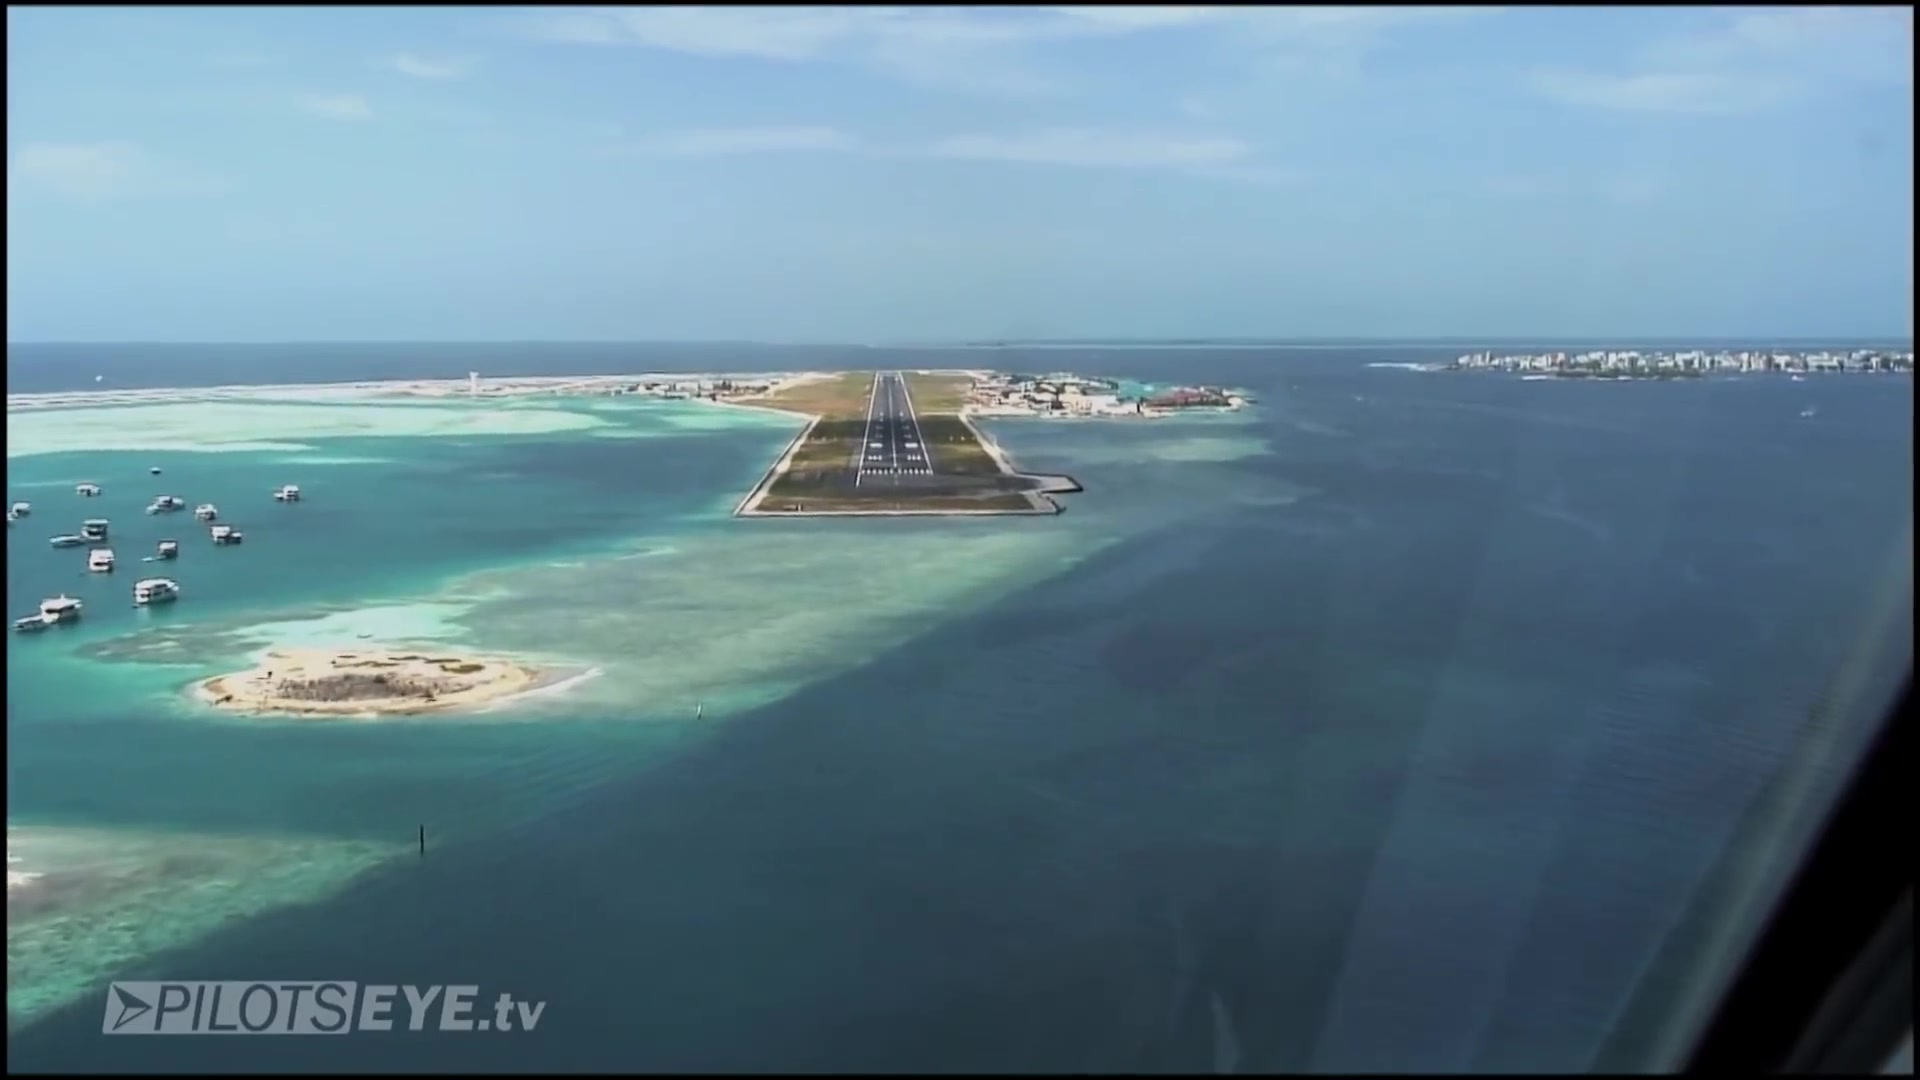entrance: (858, 465, 932, 477)
runway: (856, 376, 934, 491)
